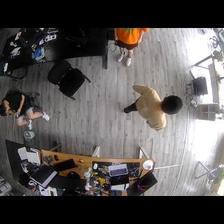normal: (122, 81, 184, 131), (114, 28, 146, 68)
